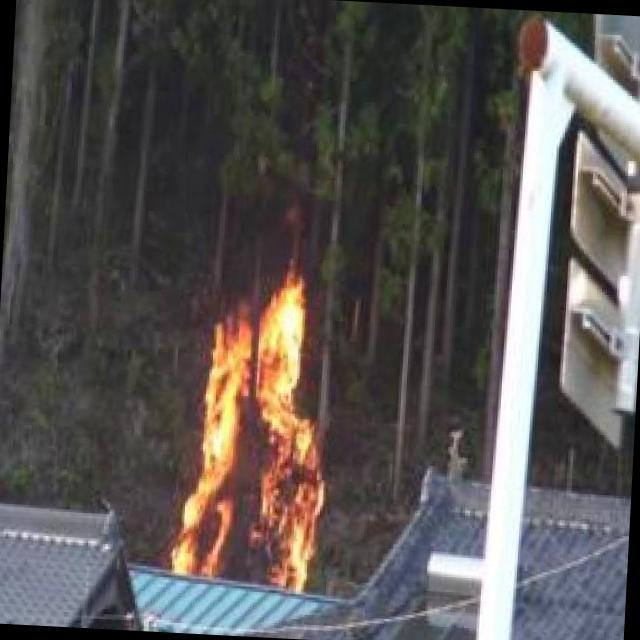Fire: (169, 288, 339, 594)
